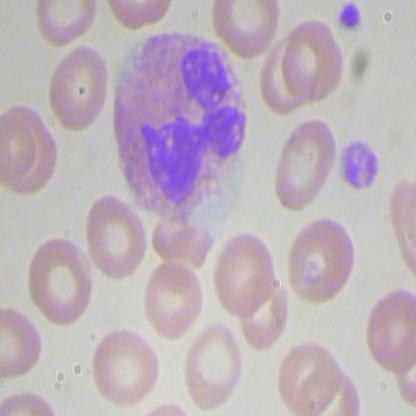Platelets: (337, 133, 389, 194), (336, 1, 366, 32)
RBC: (267, 115, 340, 211), (285, 217, 359, 310), (207, 224, 281, 317), (46, 42, 114, 138), (280, 11, 348, 107), (24, 235, 93, 326), (81, 188, 150, 279), (92, 318, 161, 409), (184, 319, 245, 414), (273, 335, 339, 415), (142, 257, 205, 339), (363, 286, 415, 380), (1, 299, 46, 382)
WBC: (103, 30, 253, 224)
